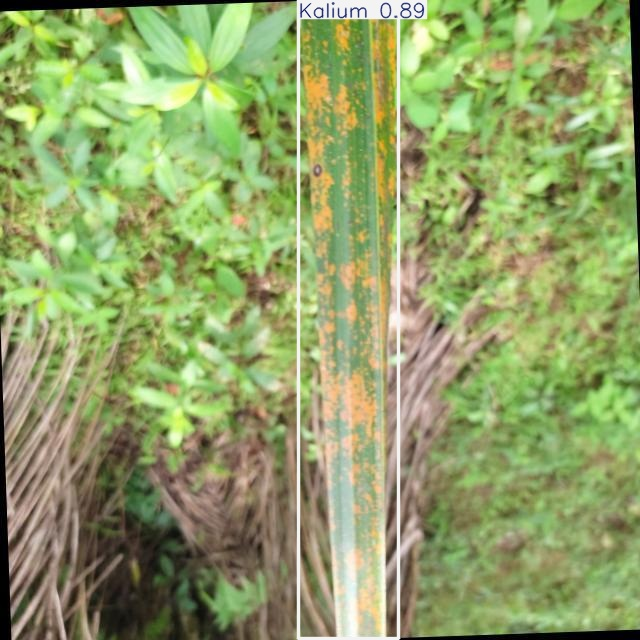Kalium: (298, 0, 399, 639)
